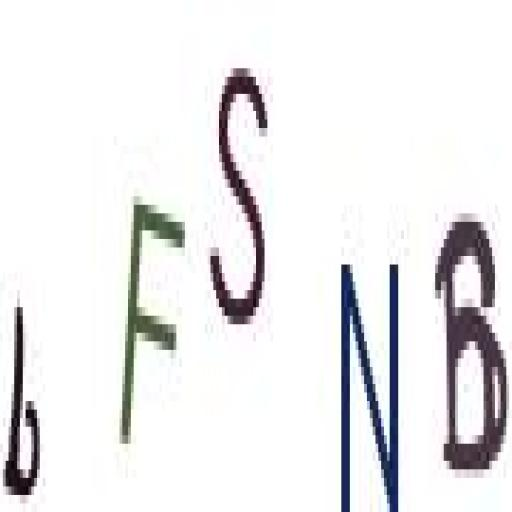B: (433, 195, 512, 493)
F: (120, 182, 188, 461)
N: (334, 238, 408, 512)
S: (200, 39, 275, 357)
b: (2, 292, 45, 512)
